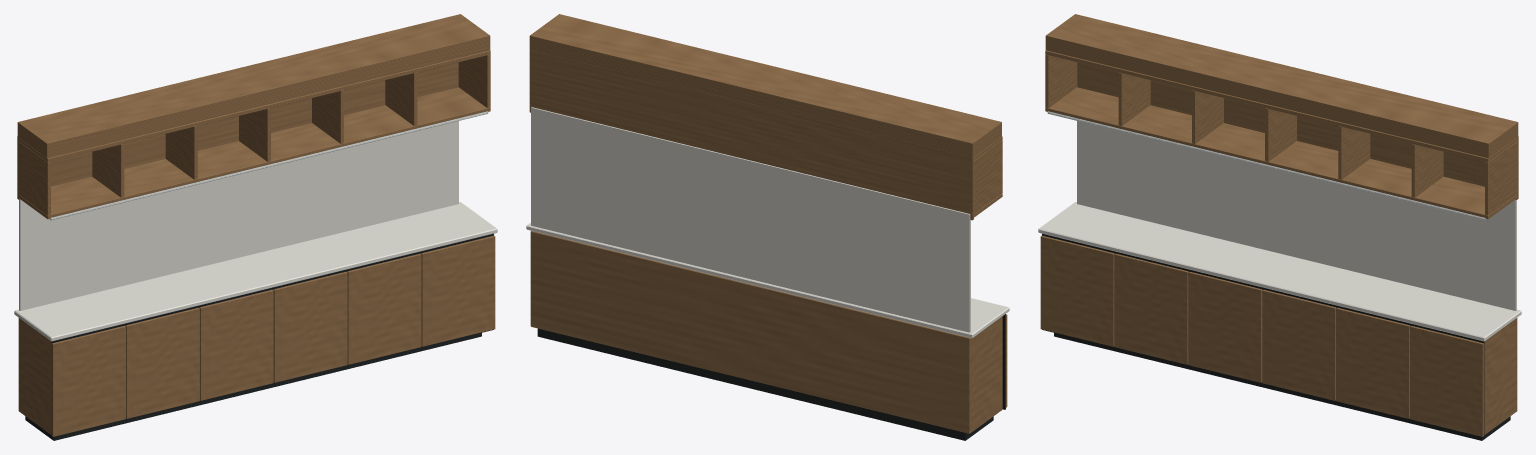
The picture shows the model from 3 angles, left to right: view 1: azimuth 30°, elevation 25°; view 2: azimuth 150°, elevation 25°; view 3: azimuth 330°, elevation 25°; orthographic projection.
Visible parts, largest first — view 1: Lower cabinet carcass, Warm white counter slab, Recessed cabinet plinth, Door reveal field, Under shelf diffuser housing, Unlit continuous diffuser; view 2: Lower cabinet carcass, Warm white counter slab, Recessed cabinet plinth; view 3: Lower cabinet carcass, Warm white counter slab, Recessed cabinet plinth, Door reveal field, Under shelf diffuser housing, Unlit continuous diffuser.
Part boxes in pixels (x1=…): Lower cabinet carcass: x1=17, y1=14, x2=495, y2=436; Warm white counter slab: x1=14, y1=121, x2=497, y2=341; Recessed cabinet plinth: x1=25, y1=333, x2=481, y2=440; Door reveal field: x1=51, y1=233, x2=493, y2=437; Under shelf diffuser housing: x1=50, y1=111, x2=488, y2=220; Unlit continuous diffuser: x1=52, y1=112, x2=487, y2=219; Lower cabinet carcass: x1=529, y1=14, x2=1007, y2=433; Warm white counter slab: x1=526, y1=107, x2=1009, y2=338; Recessed cabinet plinth: x1=537, y1=328, x2=993, y2=440; Lower cabinet carcass: x1=1040, y1=14, x2=1518, y2=436; Warm white counter slab: x1=1038, y1=121, x2=1521, y2=341; Recessed cabinet plinth: x1=1054, y1=333, x2=1510, y2=440; Door reveal field: x1=1042, y1=233, x2=1484, y2=437; Under shelf diffuser housing: x1=1047, y1=111, x2=1485, y2=220; Unlit continuous diffuser: x1=1048, y1=112, x2=1483, y2=219.
Size of the model in its own units: 3.63 by 2.33 by 0.526.
6 materials, 1 textured.
